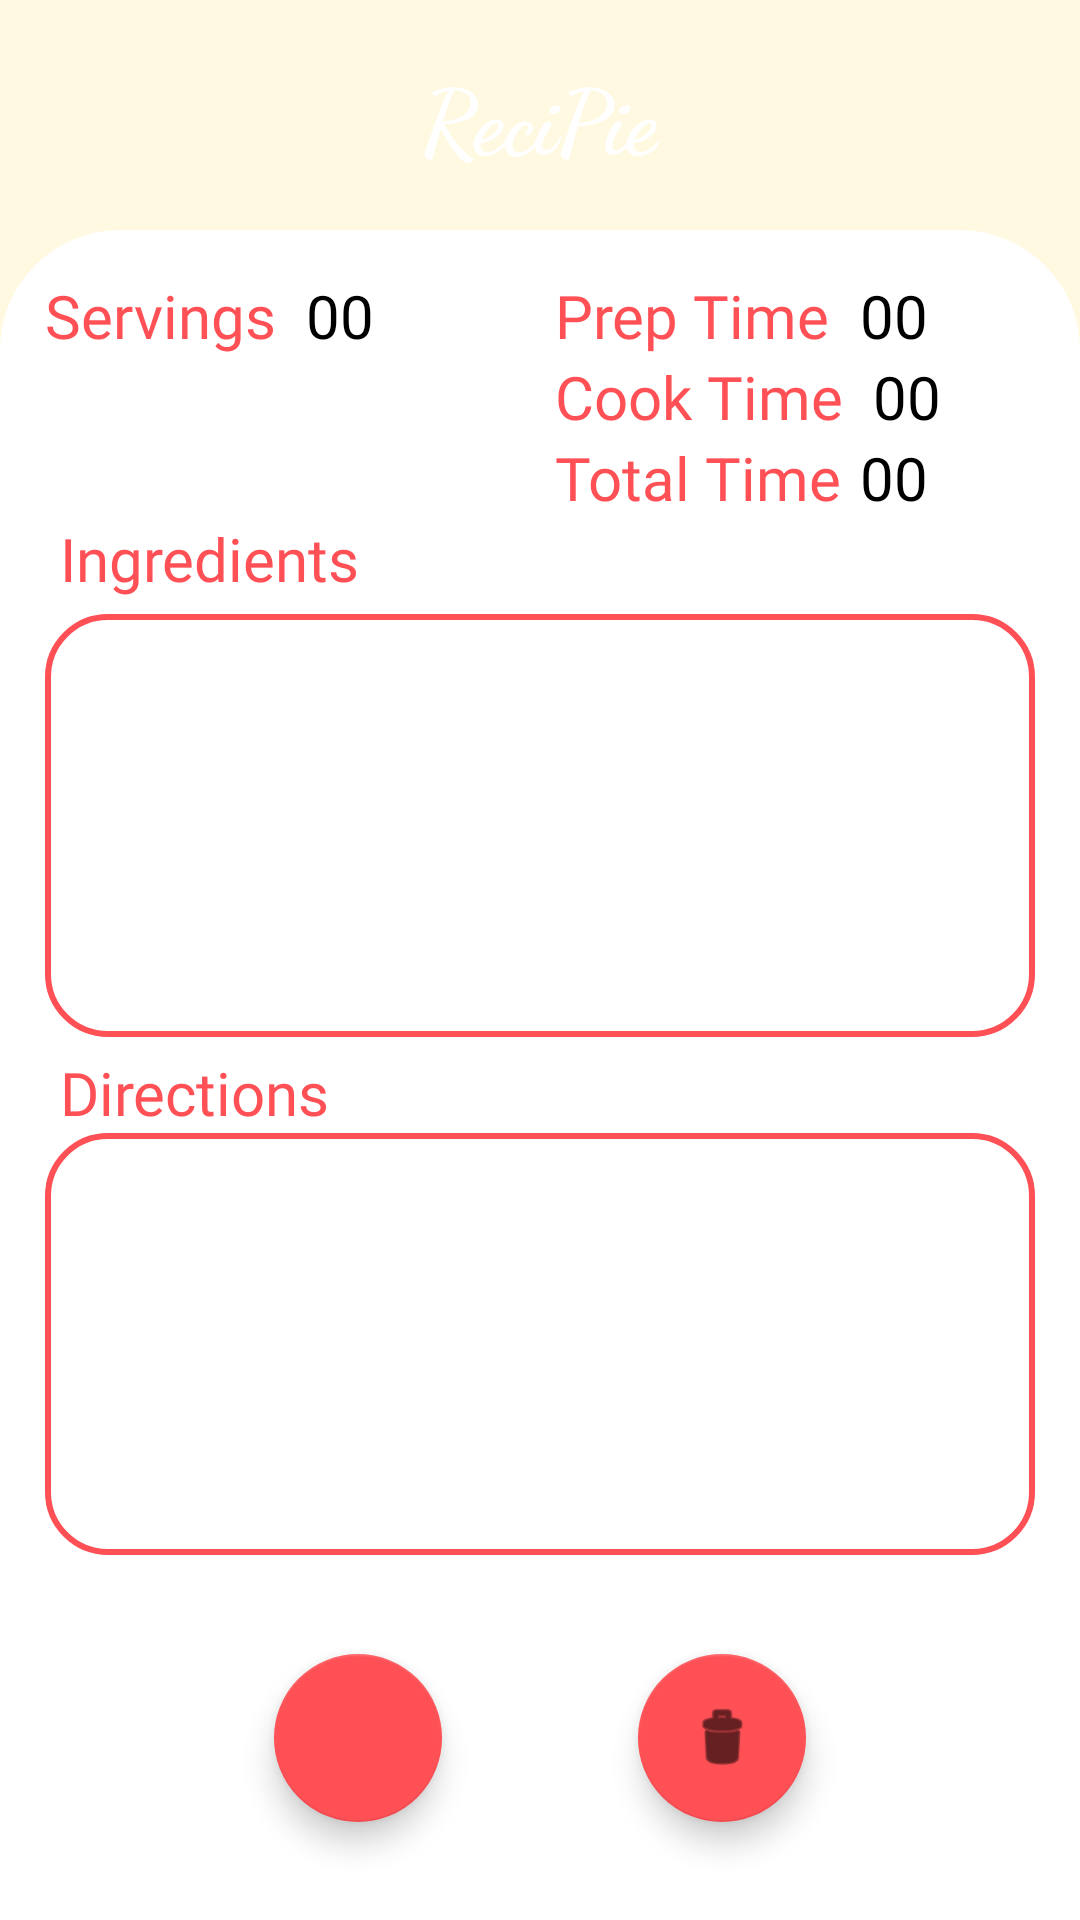

Screen size 1080px×1920px. Icon name, then its box in pixels as (x1, y1, x2, y2):
delete: (638, 1654, 806, 1822)
